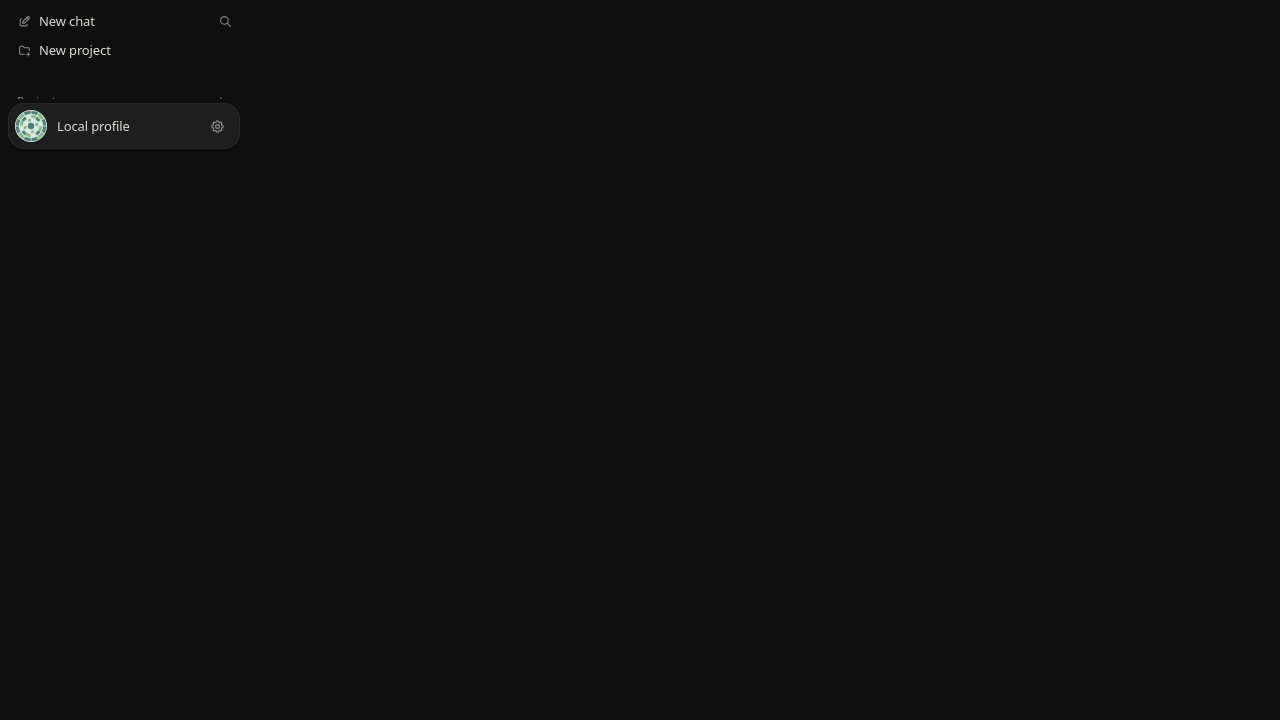
Sidebar chat actions › hides unavailable plan limits while the account component is loading
Click the button with aria-label "Account". click: (124, 126)
box: [8, 103, 240, 149]
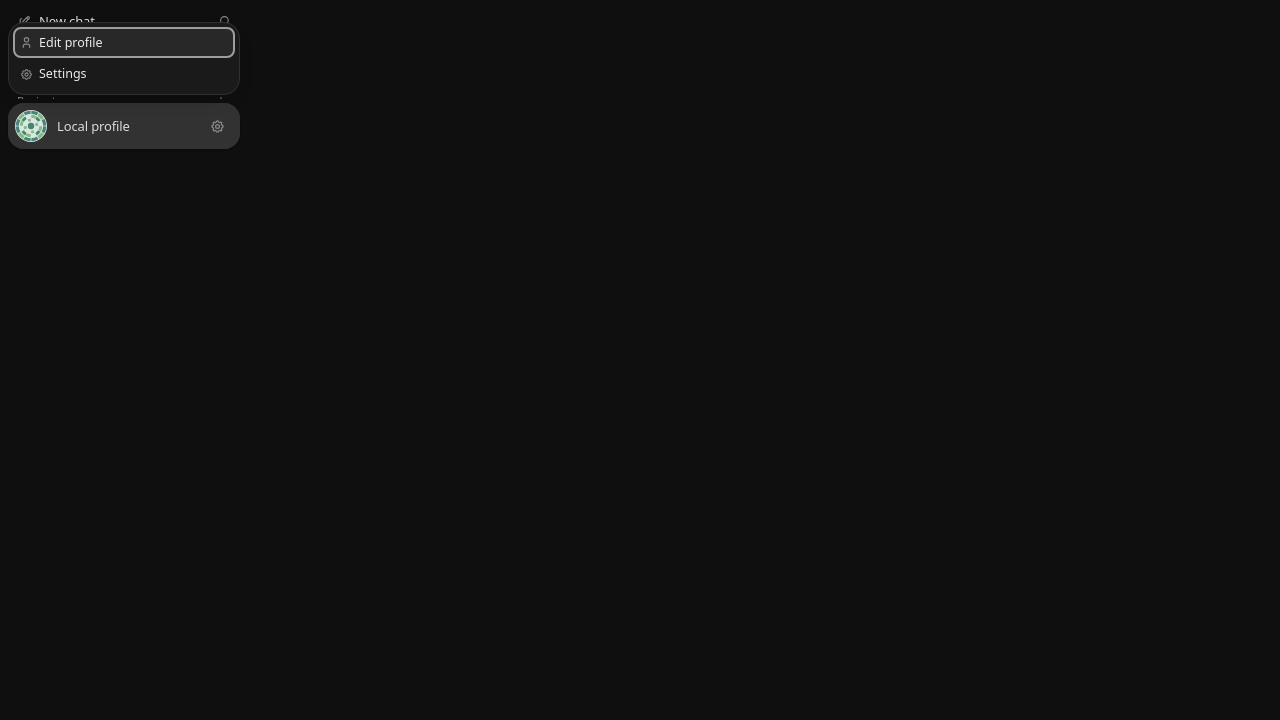
Check: the button "Edit profile" is shown, box [13, 27, 235, 58]
